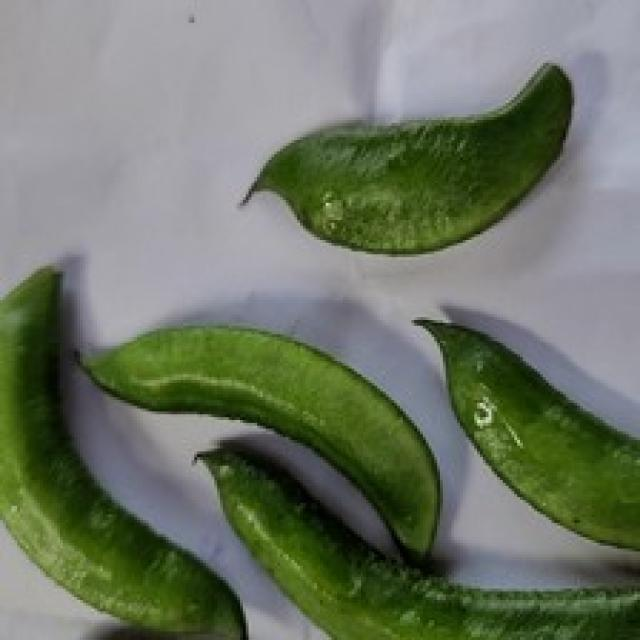Bean: (0, 263, 249, 637), (71, 320, 443, 566), (192, 443, 637, 637), (237, 60, 574, 254), (412, 314, 637, 563)
